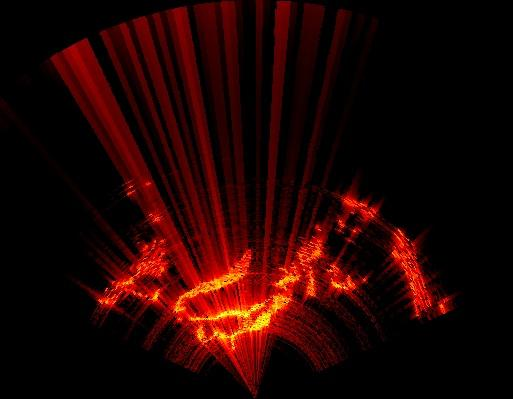shipwreck: (188, 240, 324, 345), (342, 198, 433, 314), (173, 251, 250, 320), (99, 251, 163, 306), (328, 260, 355, 291)
